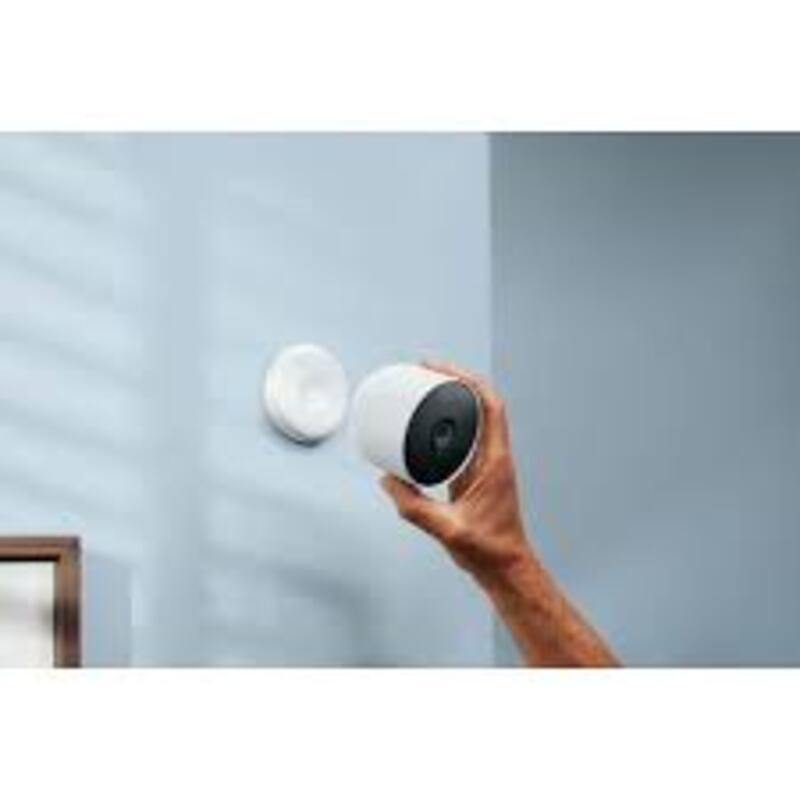nest: (339, 350, 495, 503)
